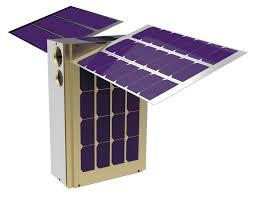body: (45, 32, 149, 191)
solar: (71, 22, 250, 106), (77, 66, 143, 176), (4, 3, 127, 54)
